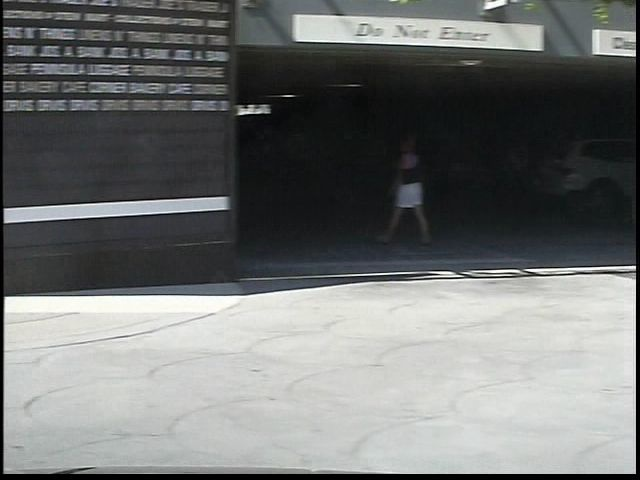person: (360, 132, 418, 250)
